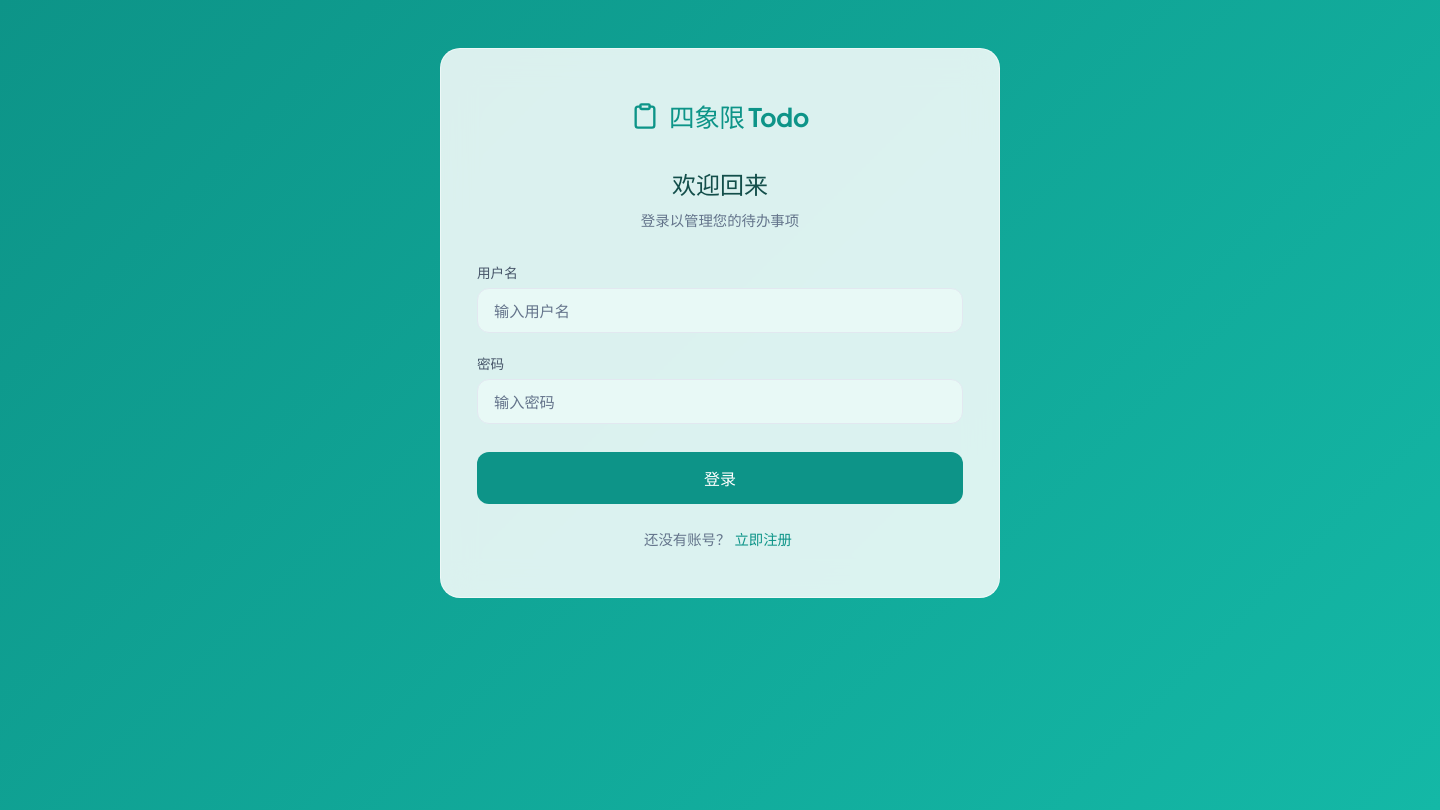
Test: Auth Acceptance › allows a new user to register and enter main app
The width and height of the screenshot is (1440, 810).
Click the button "立即注册": click(763, 538) [730,528,796,549]
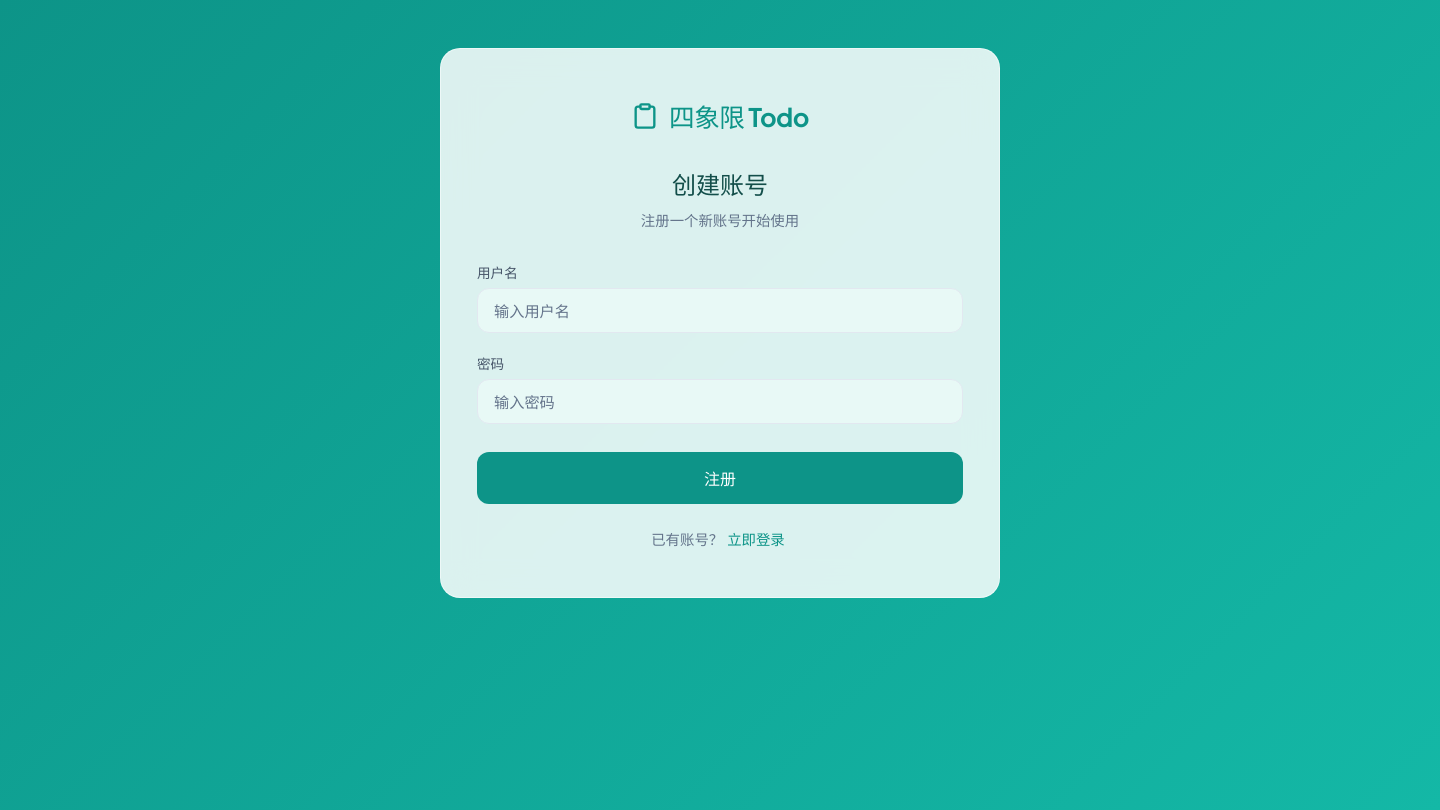
In the field labelled "用户名": (720, 310) [477,288,963,333], type "alice"
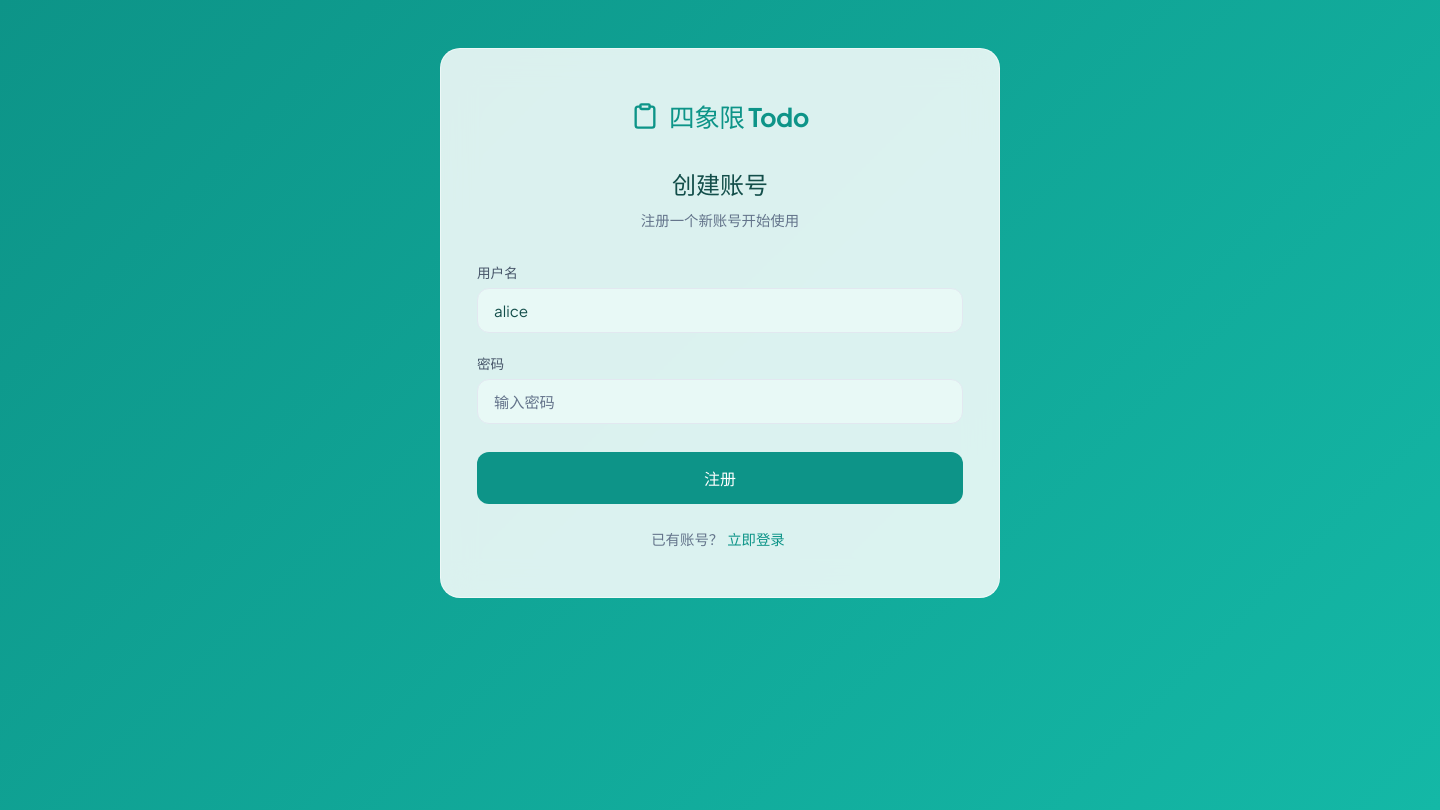
In the password field labelled "密码": (720, 402) [477,379,963,424], type "alice123"
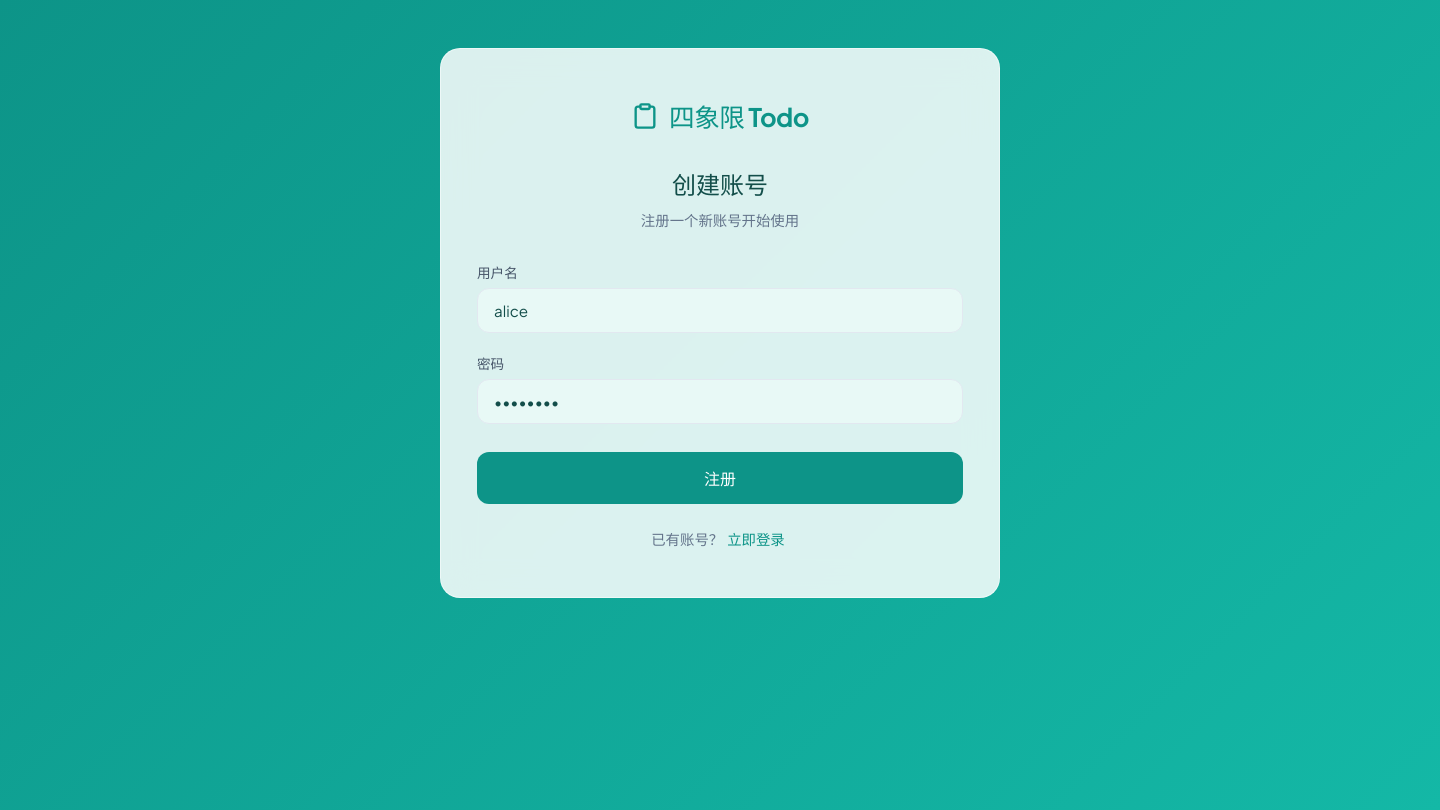
Click the button "注册": click(720, 478) [477,452,963,504]
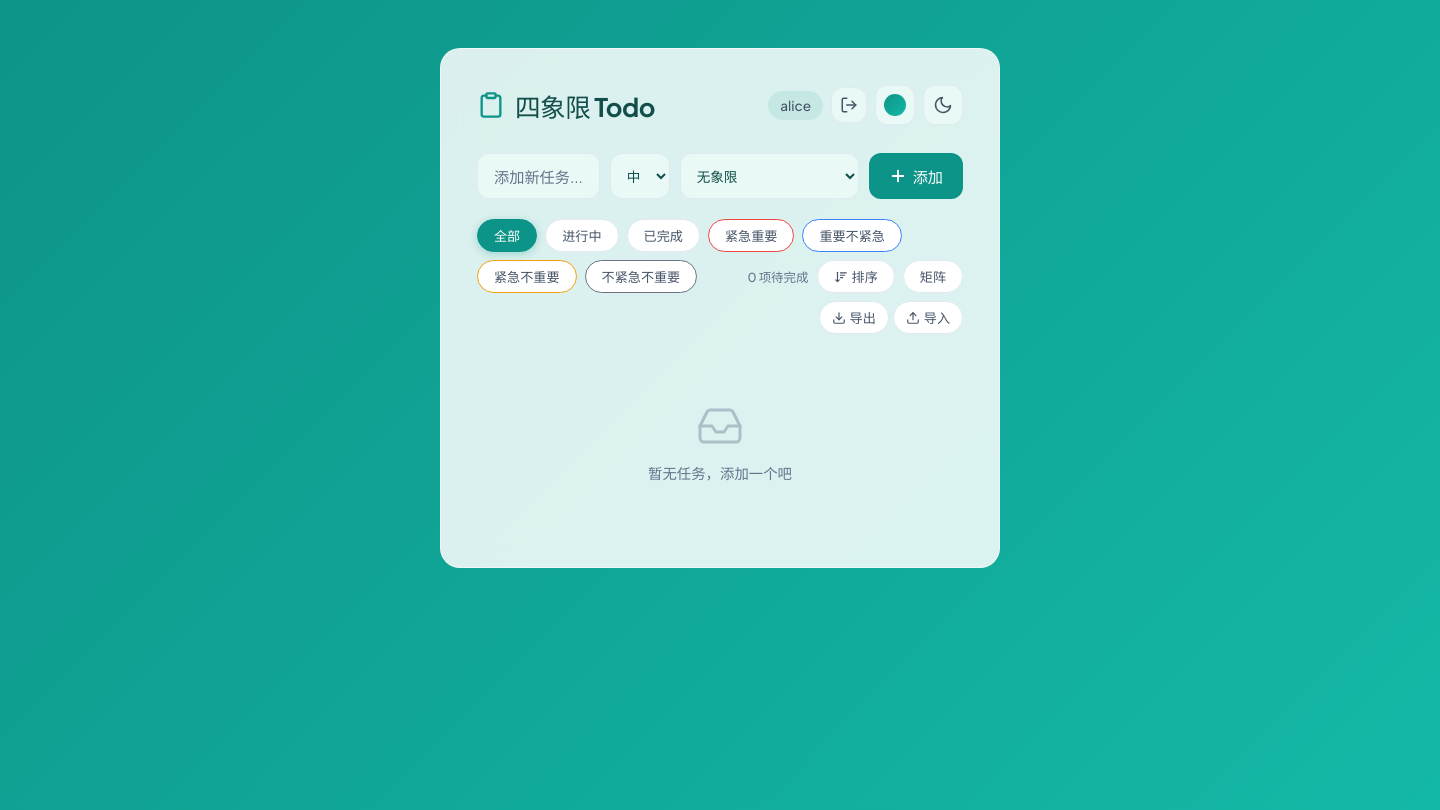
Now the text "alice" is shown, box [768,90,823,120]
Now the button named "退出登录" is shown, box [831,87,867,123]
Now the field with placeholder "添加新任务..." is shown, box [477,153,600,199]
